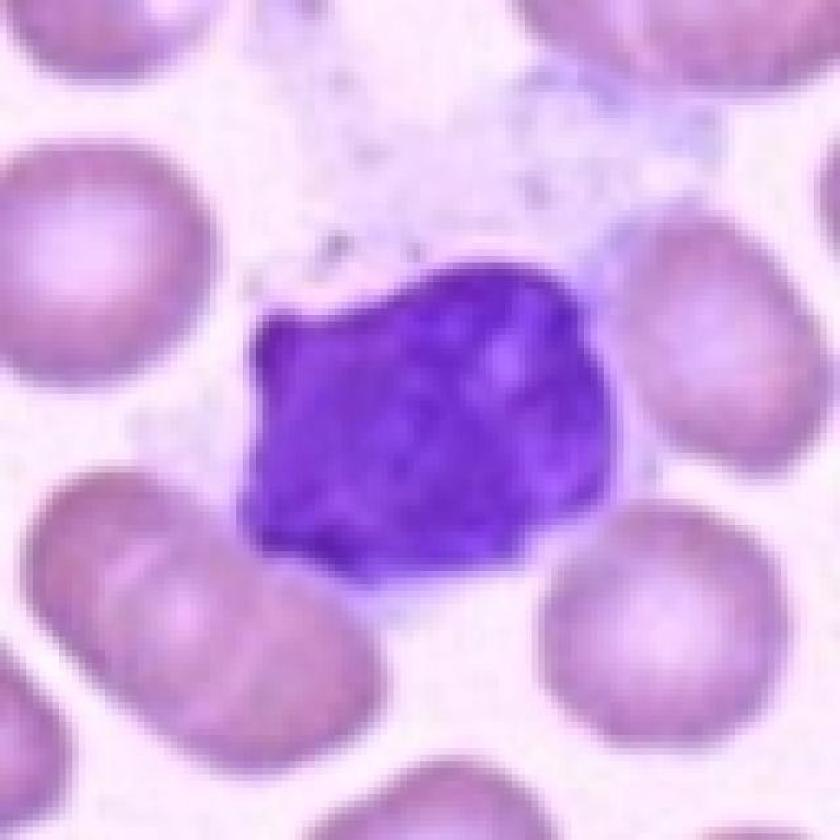lymphocyte: (181, 1, 740, 621)
